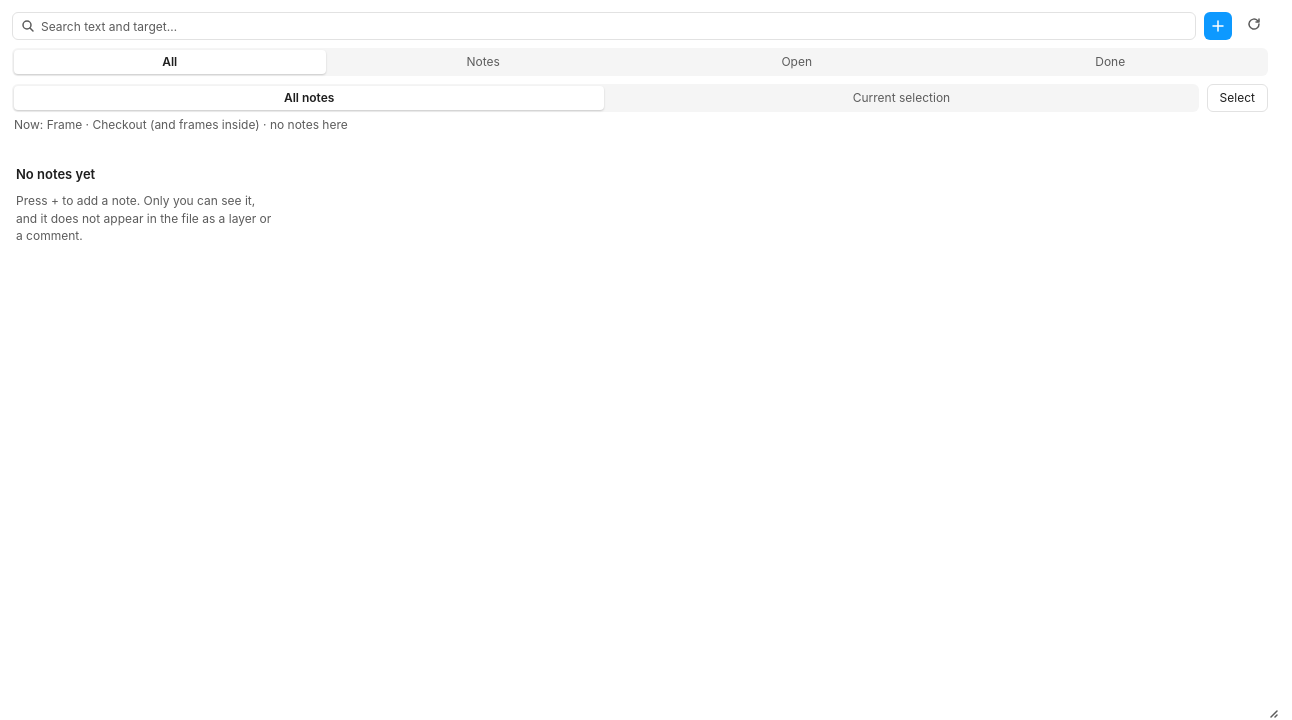
Test: creating a note › defaults to one selected frame
Click the button named "Add note" at (1218, 26), box [1204,12,1232,40]
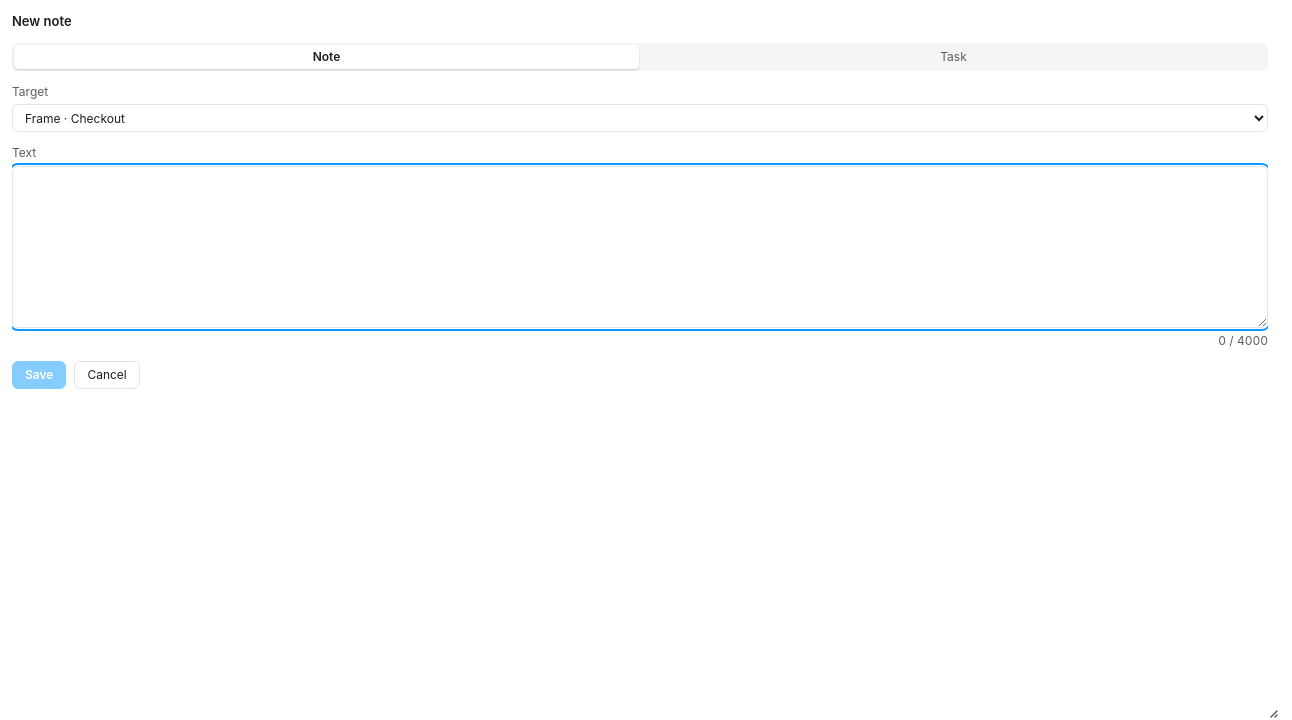
Now the dropdown labelled "Target" shows "Frame · Checkout", box [12,104,1268,132]
